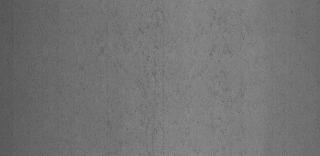silk spot: (201, 10, 319, 150), (112, 9, 198, 145)
